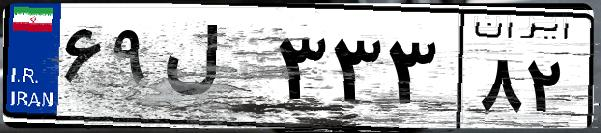2: (525, 38, 570, 115)
3: (270, 28, 330, 110), (385, 28, 445, 110), (330, 28, 385, 110)
6: (57, 26, 110, 100)
8: (475, 38, 525, 113)
9: (110, 28, 158, 98)
ل: (158, 20, 270, 120)
